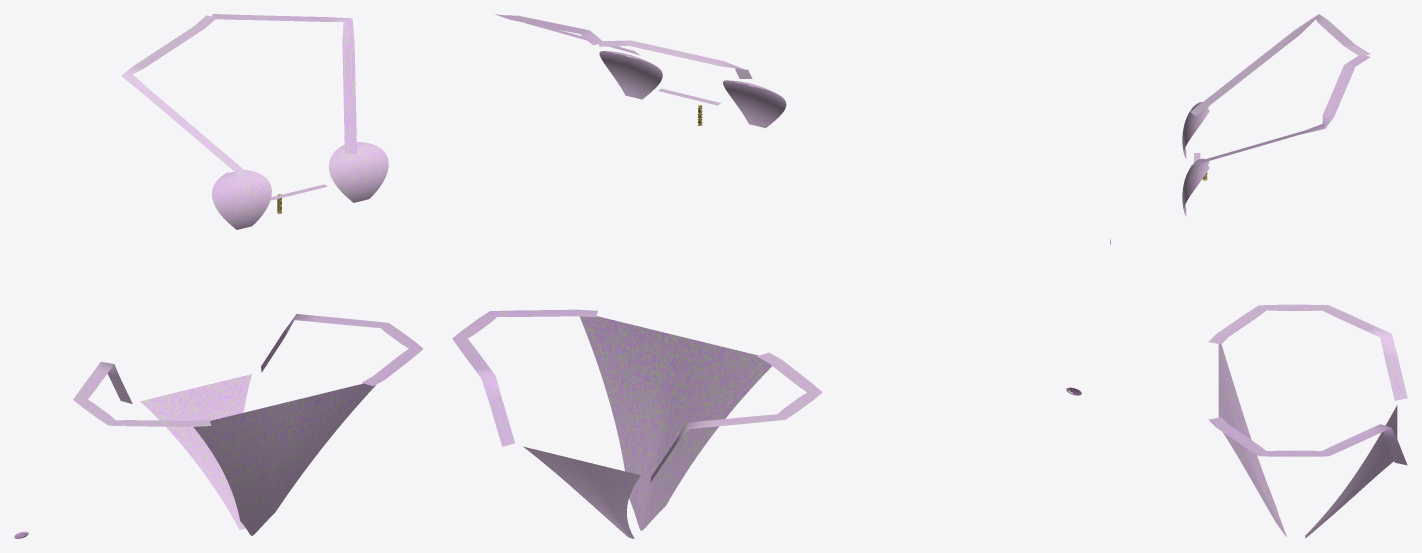
The model's file is bikini_553e9be7.obj.
3 renders of one model, left to right at view 1: azimuth 30°, elevation 25°; view 2: azimuth 150°, elevation 25°; view 3: azimuth 270°, elevation 25°, orthographic. The views are drawn at different scales.
Parts seen in each view (by area): view 1: bottom_front_highcut, bottom_back_thong, cup_left_triangle, cup_right_triangle, strap_right_halter, strap_left_halter, bottom_strap_left_tie, bottom_strap_right_tie; view 2: bottom_front_highcut, bottom_back_thong, bottom_strap_right_tie, bottom_strap_left_tie, cup_right_triangle, cup_left_triangle, strap_left_halter, strap_right_halter; view 3: bottom_front_highcut, bottom_strap_left_tie, bottom_strap_right_tie, bottom_back_thong, strap_left_halter, strap_right_halter, cup_right_triangle, cup_left_triangle.
Boxes of the visible parts, x1,y1,x2,y2 form: bottom_front_highcut: [193, 383, 375, 535]; bottom_back_thong: [140, 374, 251, 529]; cup_left_triangle: [212, 170, 271, 229]; cup_right_triangle: [328, 142, 388, 202]; strap_right_halter: [212, 14, 356, 153]; strap_left_halter: [121, 15, 250, 180]; bottom_strap_left_tie: [73, 361, 211, 426]; bottom_strap_right_tie: [261, 314, 423, 386]; bottom_front_highcut: [579, 316, 771, 530]; bottom_back_thong: [523, 446, 640, 538]; bottom_strap_right_tie: [452, 309, 597, 446]; bottom_strap_left_tie: [650, 352, 822, 482]; cup_right_triangle: [599, 51, 662, 99]; cup_left_triangle: [723, 80, 786, 128]; strap_left_halter: [598, 40, 752, 78]; strap_right_halter: [494, 14, 640, 55]; bottom_front_highcut: [1218, 344, 1286, 536]; bottom_strap_left_tie: [1208, 304, 1407, 400]; bottom_strap_right_tie: [1208, 417, 1407, 465]; bottom_back_thong: [1305, 405, 1397, 538]; strap_left_halter: [1190, 14, 1370, 116]; strap_right_halter: [1191, 54, 1370, 165]; cup_right_triangle: [1182, 158, 1209, 215]; cup_left_triangle: [1182, 102, 1209, 158].
Size of the model in its own units: 0.6857 by 0.6615 by 0.3701.
2 materials, 1 textured.
